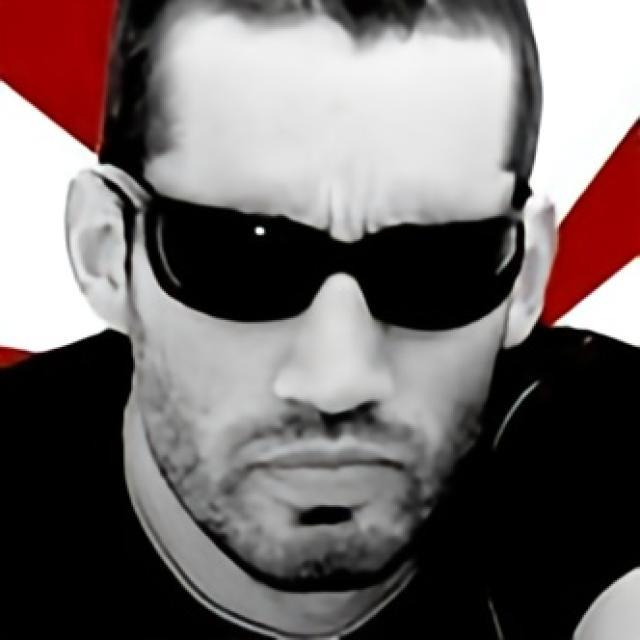anger: (145, 5, 522, 248)
